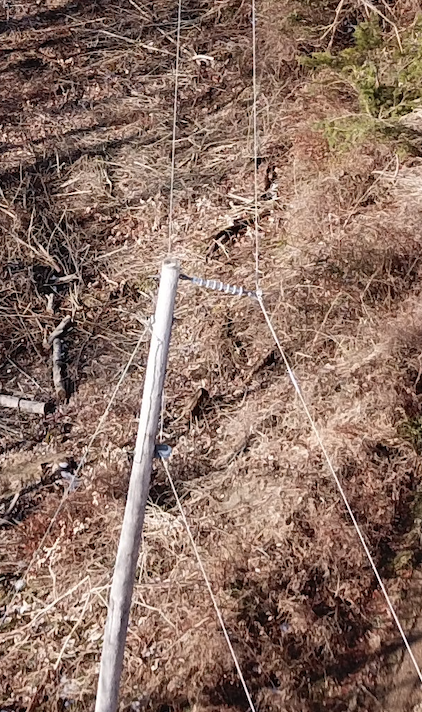pole: (110, 237, 221, 705)
